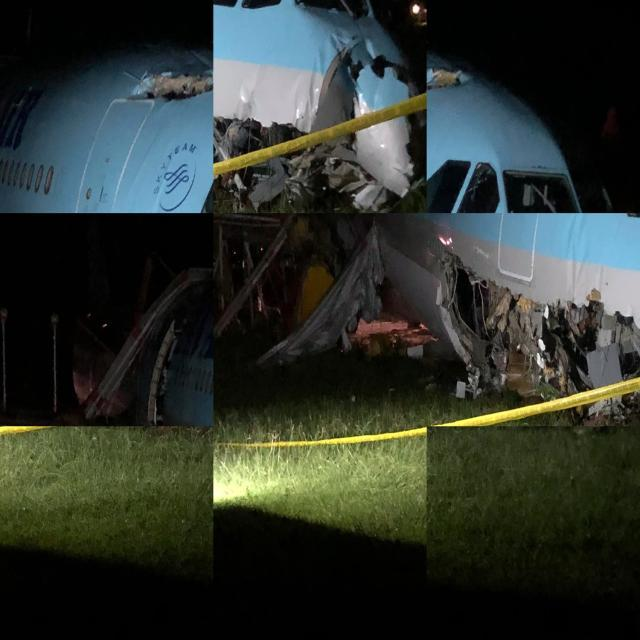crack: (127, 65, 216, 116), (428, 63, 478, 95)
